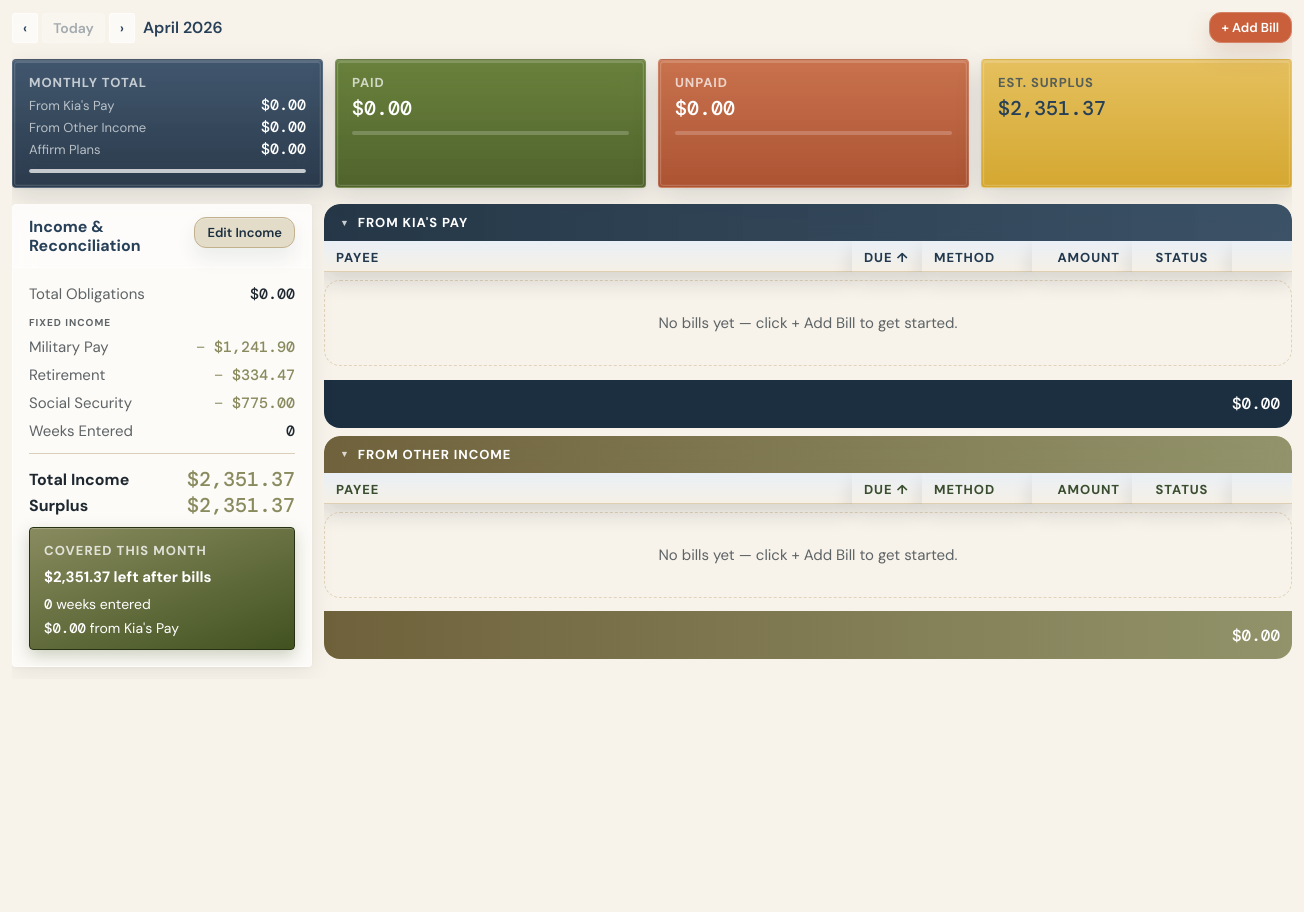
Test case: AccountsTab — Add Bill modal › opens the BillForm when toolbar button is clicked
What coordinates should you click on to do the following:
click the button "+ Add Bill"
I would click on:
 (1250, 28)
Its box is [1208, 12, 1292, 43].
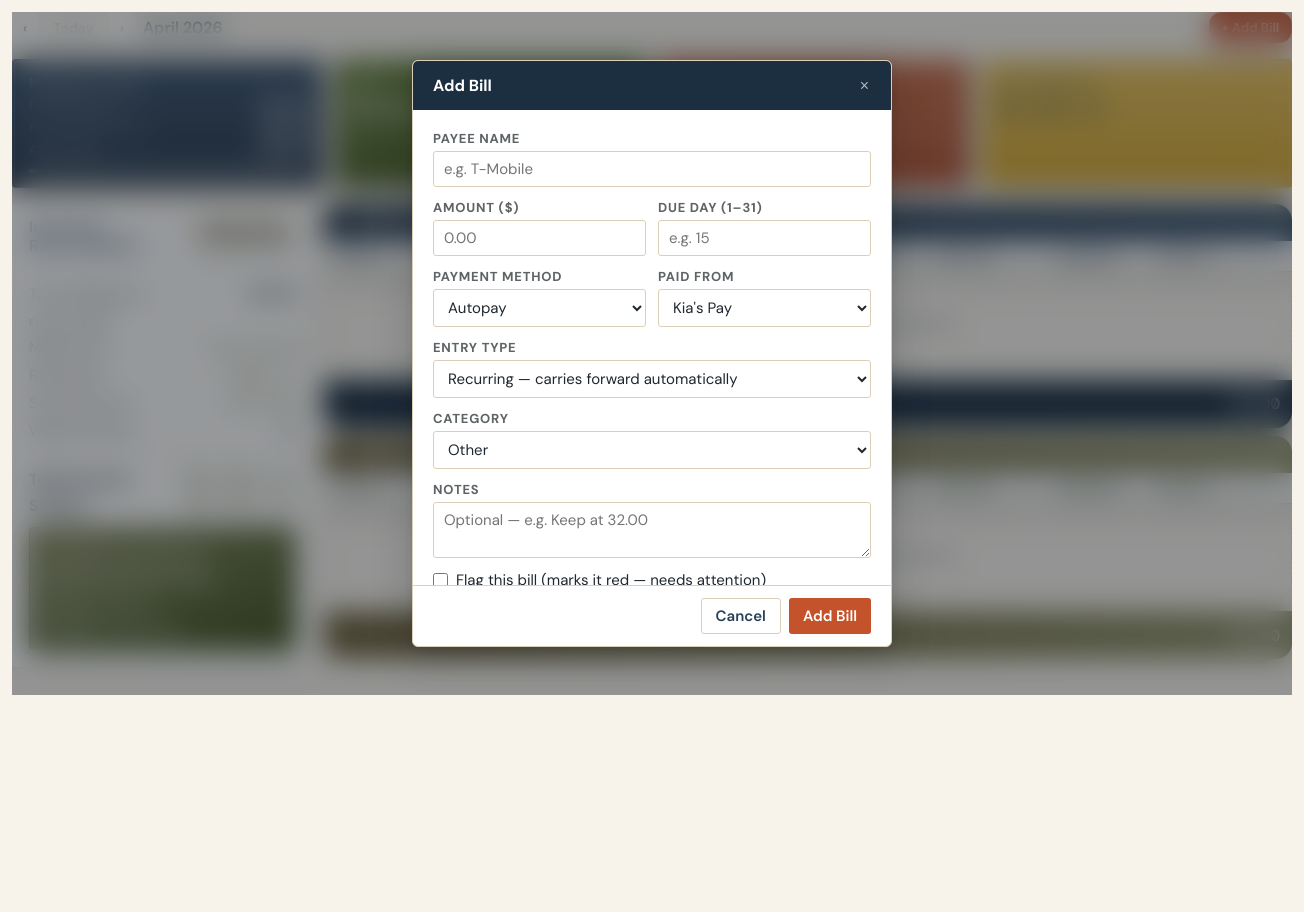
Expected: the heading "Add Bill" is shown, [433, 75, 492, 96]
